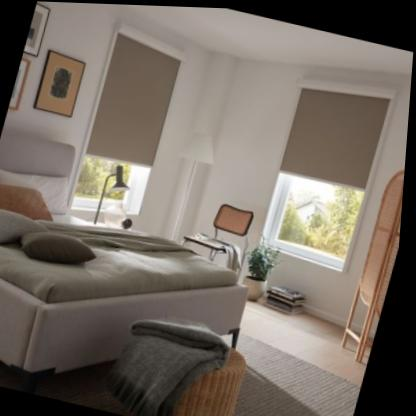Bed: (0, 127, 253, 393)
Window: (257, 60, 401, 271)
